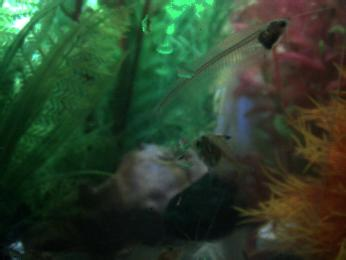X-ray fish: (191, 133, 255, 185)
glassfish: (144, 16, 293, 124)
siberian prawn: (110, 228, 212, 260)
